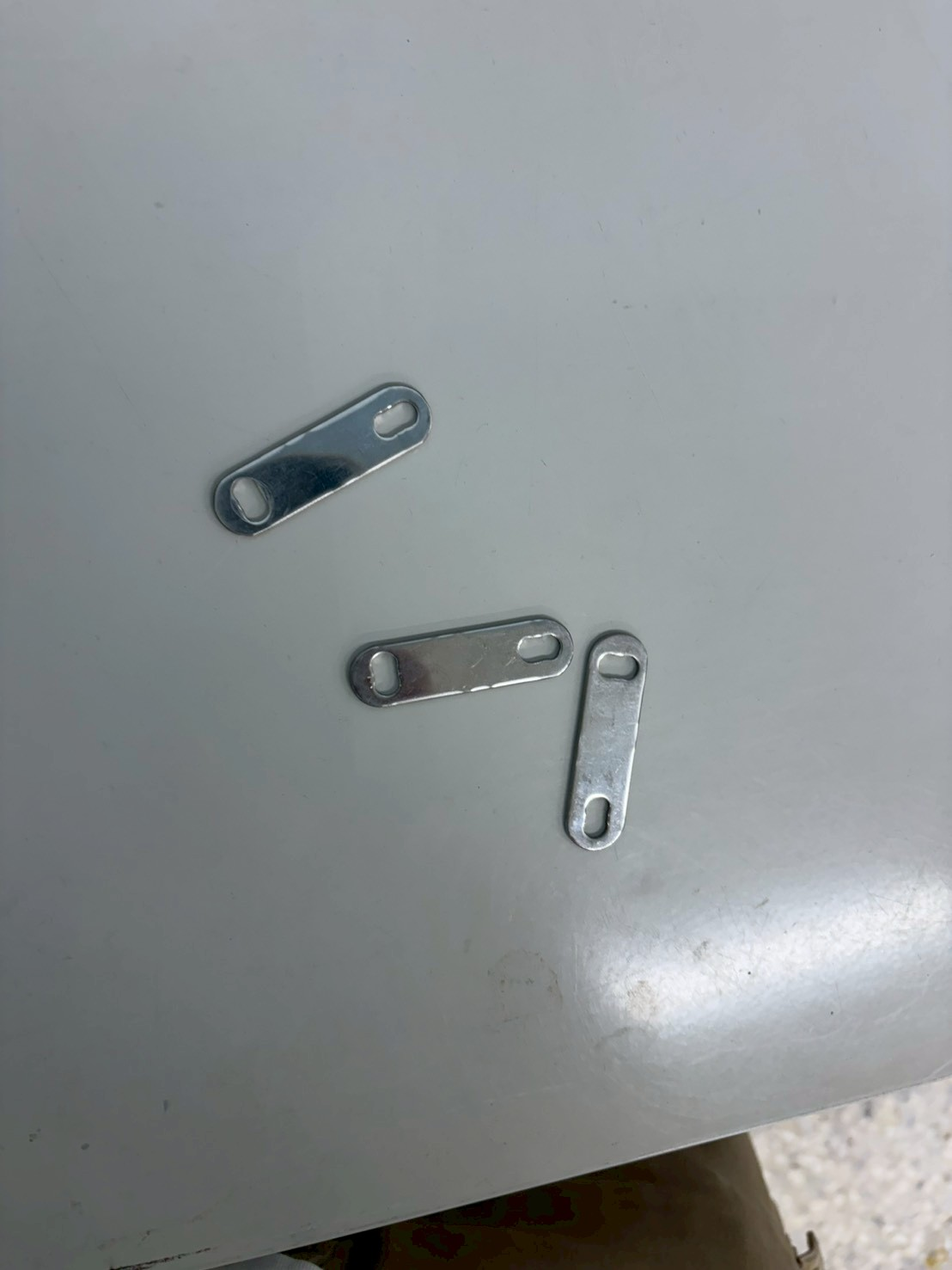Fe: (328, 640, 584, 726), (189, 479, 445, 565), (547, 872, 803, 957)
